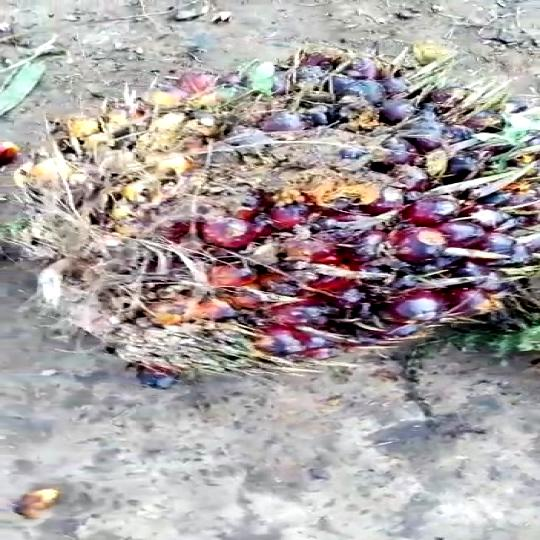kurang masak: (20, 50, 536, 372)
